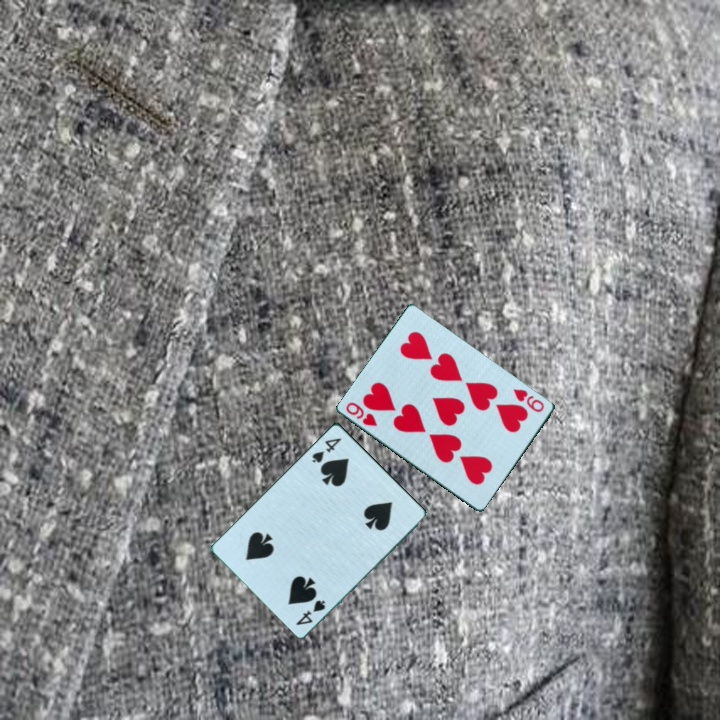4s: (308, 434, 344, 466), (293, 596, 329, 628)
9h: (343, 398, 381, 429), (510, 385, 548, 415)
